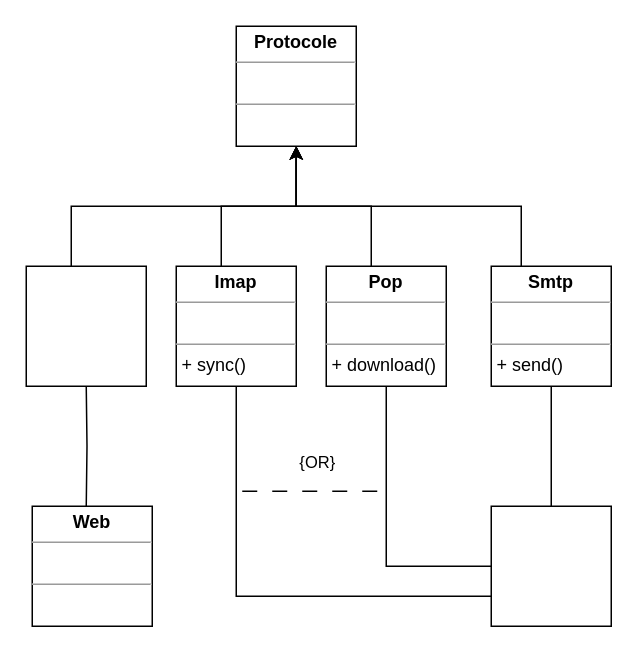
Some shapes in this 638 by 653 pixel diagram are drawn without their labels. Here are the shapes that lost their labels. From the top down, the centre of each, then its label:
At (x=85, y=325): "Http".
At (x=550, y=565): "Email".
